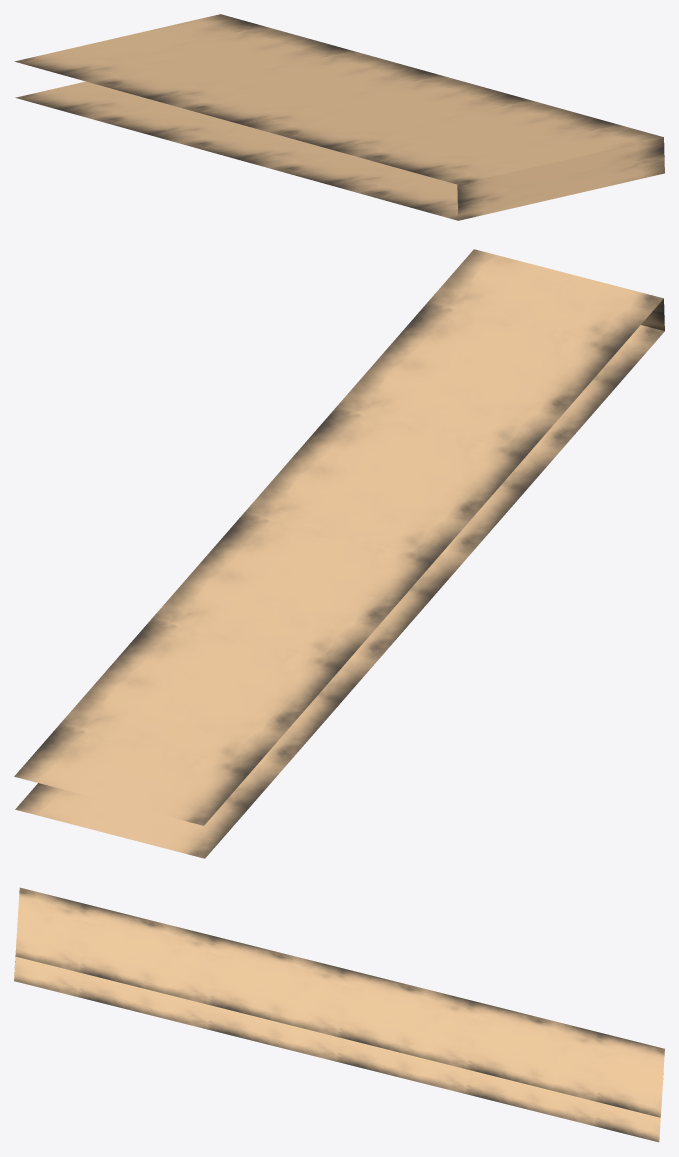
The model's file is Floor_1.fbx.
3 views of the same model, one above another, from view 1: azimuth 30°, elevation 25°; view 2: azimuth 150°, elevation 25°; view 3: azimuth 270°, elevation 25° (orthographic). The views are drawn at different scales.
Parts seen in each view (by area): view 1: polySurface126; view 2: polySurface126; view 3: polySurface126.
Boxes of the visible parts, box(x1,y1,x2,y2) form: polySurface126: box(14, 14, 664, 220); polySurface126: box(14, 249, 664, 858); polySurface126: box(14, 887, 664, 1142).
Bounding box in the file's own units: 6.62 × 7.25 × 23.91.
